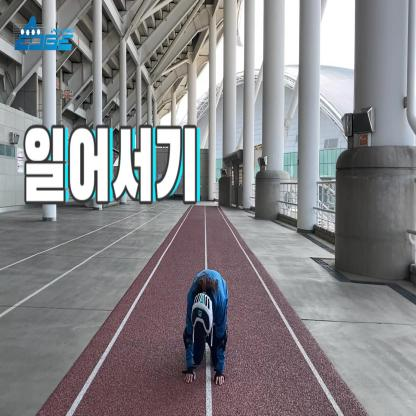Fall_Down: (184, 270, 229, 386)
